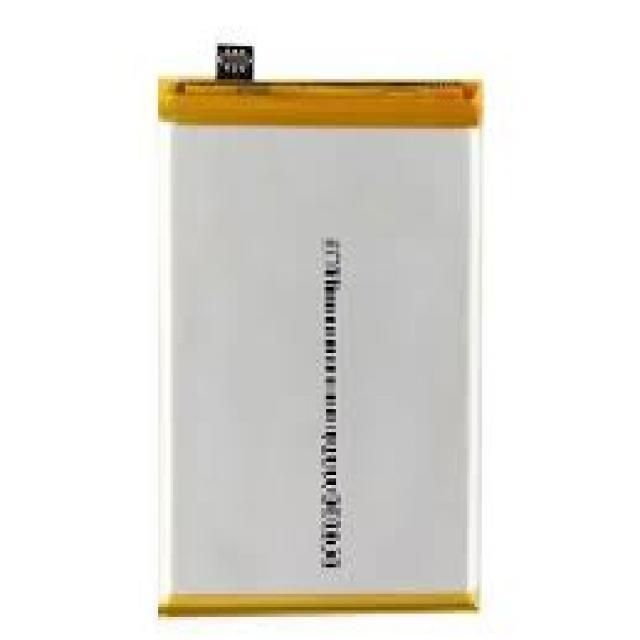battery: (160, 38, 488, 612)
